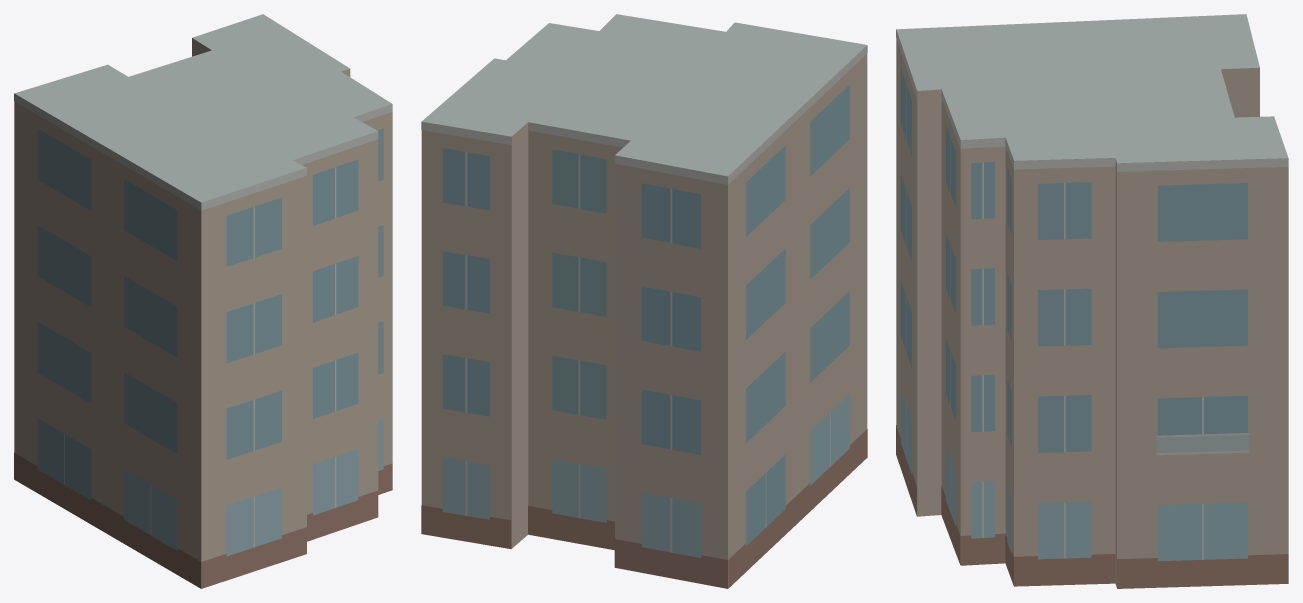
Rendered from survey-upis-32517836.glb.
3 views of the same model, side by side, from view 1: azimuth 30°, elevation 25°; view 2: azimuth 150°, elevation 25°; view 3: azimuth 270°, elevation 25° (orthographic). The views are drawn at different scales.
Visible parts, largest first — view 1: survey-upis-32517836.tmp; view 2: survey-upis-32517836.tmp; view 3: survey-upis-32517836.tmp.
Part boxes in pixels (left/top/right/bottom): survey-upis-32517836.tmp: left=14, top=14, right=392, bottom=588; survey-upis-32517836.tmp: left=421, top=14, right=867, bottom=588; survey-upis-32517836.tmp: left=896, top=14, right=1288, bottom=588.
Size of the model in its own units: 9.03 by 12 by 10.03.
